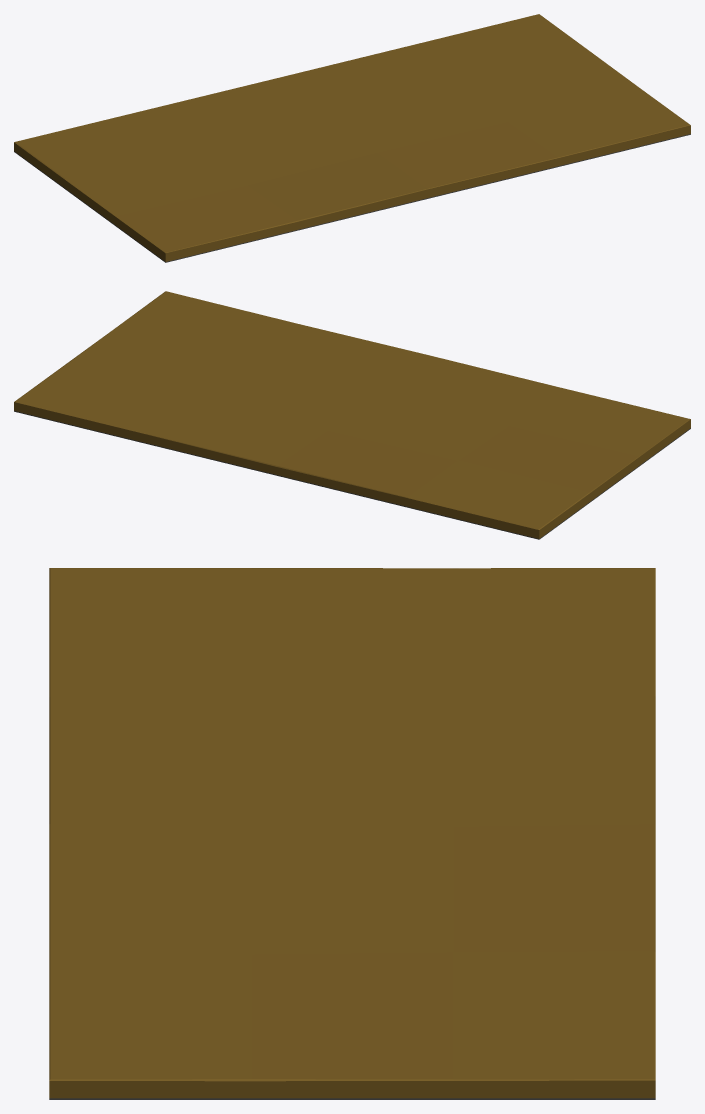
The model's file is doormat.obj.
The picture shows the model from 3 angles, top to bottom: view 1: azimuth 30°, elevation 25°; view 2: azimuth 150°, elevation 25°; view 3: azimuth 270°, elevation 25°; orthographic projection. The views are drawn at different scales.
Parts seen in each view (by area): view 1: doormat_Cube.001, rubber_Cube.002; view 2: doormat_Cube.001, rubber_Cube.002; view 3: doormat_Cube.001, rubber_Cube.002.
Boxes of the visible parts, x1=… form: doormat_Cube.001: x1=14, y1=14, x2=690, y2=261; rubber_Cube.002: x1=14, y1=134, x2=690, y2=262; doormat_Cube.001: x1=14, y1=291, x2=690, y2=538; rubber_Cube.002: x1=14, y1=411, x2=690, y2=539; doormat_Cube.001: x1=49, y1=568, x2=655, y2=1098; rubber_Cube.002: x1=49, y1=1098, x2=655, y2=1099.
Bounding box in the file's own units: 60 × 1.09 × 30.
